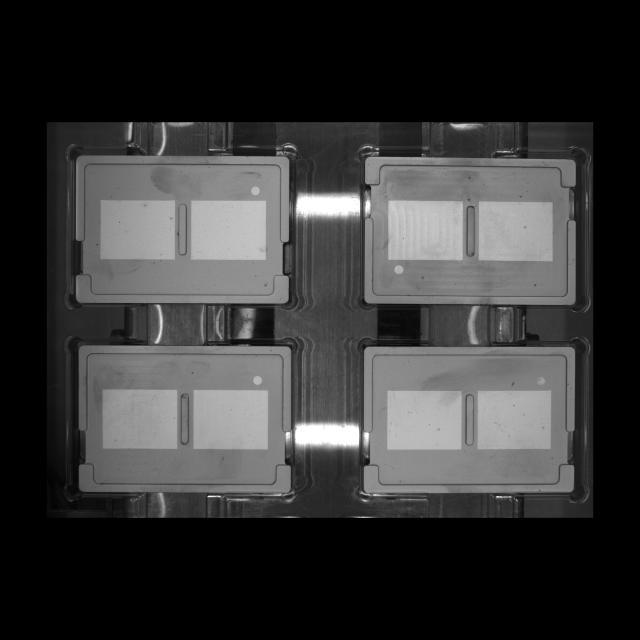product: (64, 142, 302, 313), (357, 141, 589, 316), (64, 333, 298, 503), (356, 335, 587, 501)
